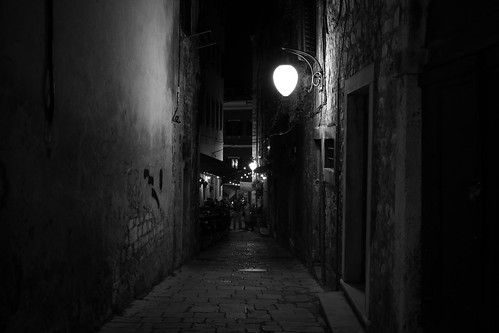building: (271, 1, 499, 321), (1, 12, 216, 333)
